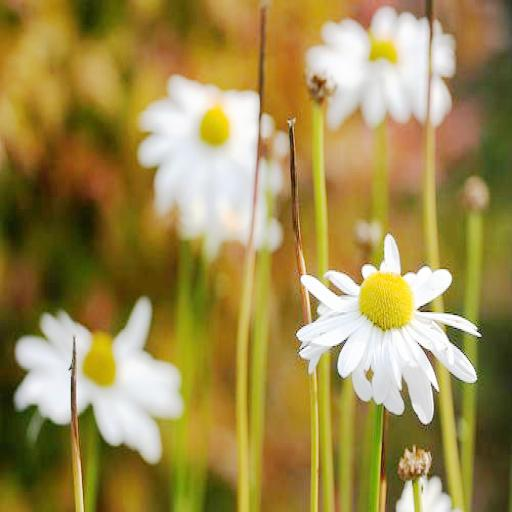daisy: (312, 250, 469, 382), (151, 75, 262, 226), (314, 20, 458, 111)
